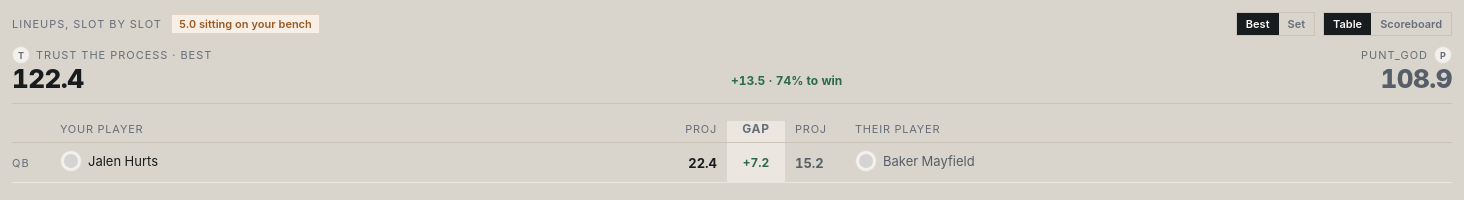
Test case: LineupCompare › quotes the odds for the lineup it is showing, not the other one
The image size is (1464, 200).
Check: the text "+13.5 · 74% to win" is shown, box x1=731 y1=73 x2=842 y2=92
Click the button "Set".
click(1296, 24)  # box x1=1278 y1=13 x2=1314 y2=35
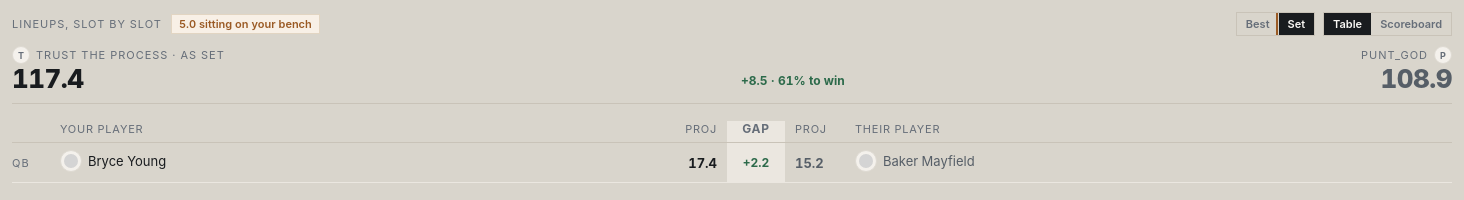
Check: the text "+8.5 · 61% to win" is shown, box x1=741 y1=73 x2=845 y2=92
Check: the text "74% to win" is gone
